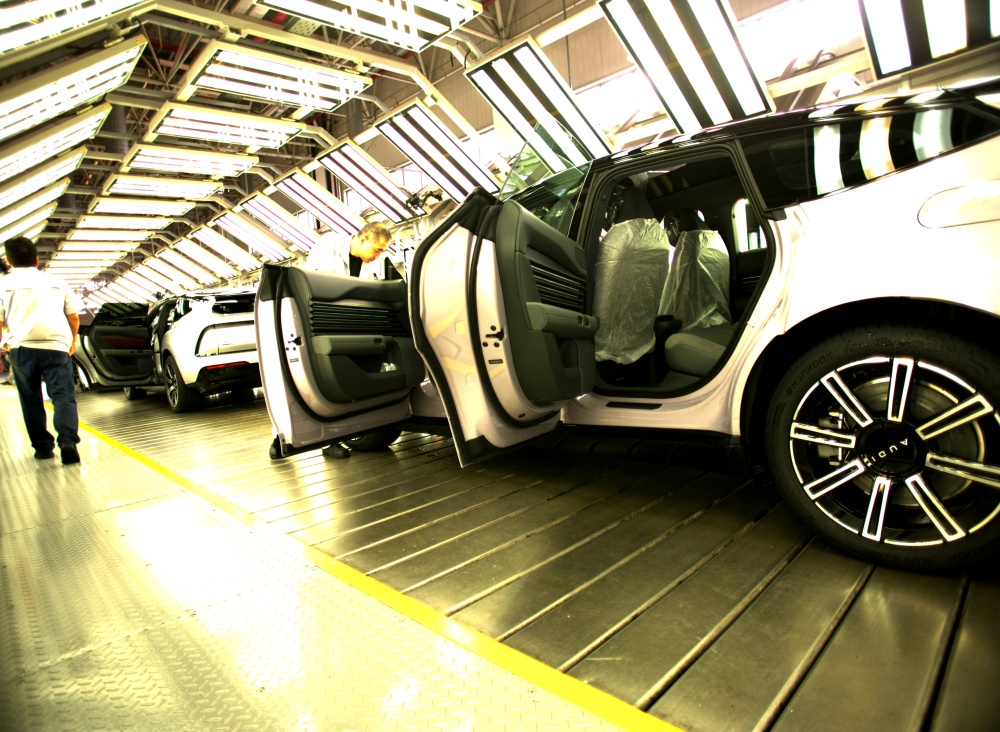armrest_color: (523, 299, 600, 338), (310, 333, 391, 354)
panel_color: (527, 256, 589, 314), (308, 298, 403, 333)
